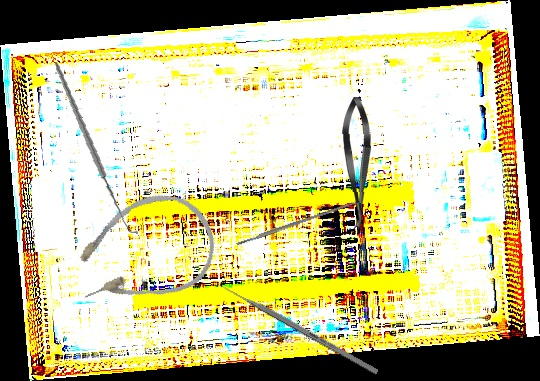Cannula: (59, 180, 227, 323)
Hook Surgical: (35, 62, 158, 234)
Micro Scissor: (341, 96, 373, 230)
Pusher: (214, 279, 380, 376)
Scalpel Handle: (235, 198, 361, 247)
